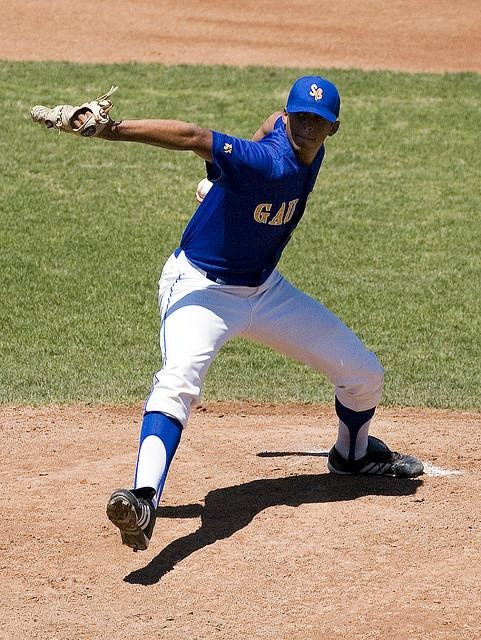person: (57, 75, 431, 563)
